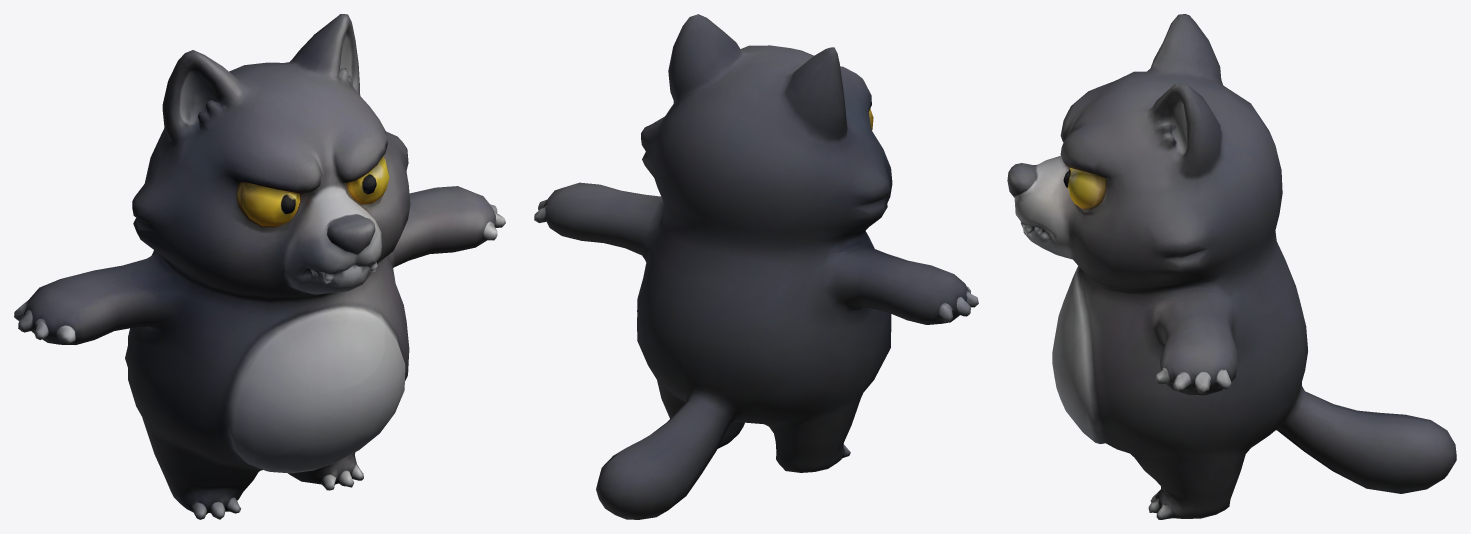
File: wolf.glb
3 views of the same model, side by side, from view 1: azimuth 30°, elevation 25°; view 2: azimuth 150°, elevation 25°; view 3: azimuth 270°, elevation 25° (orthographic). The views are drawn at different scales.
Parts seen in each view (by area): view 1: tripo_node_895c7403-d872-4255-b155-488b4fce2e77; view 2: tripo_node_895c7403-d872-4255-b155-488b4fce2e77; view 3: tripo_node_895c7403-d872-4255-b155-488b4fce2e77.
Part boxes in pixels (bbox=[...]): tripo_node_895c7403-d872-4255-b155-488b4fce2e77: bbox=[14, 14, 505, 519]; tripo_node_895c7403-d872-4255-b155-488b4fce2e77: bbox=[534, 14, 978, 519]; tripo_node_895c7403-d872-4255-b155-488b4fce2e77: bbox=[1007, 14, 1456, 519].
Size of the model in its own units: 0.9771 by 0.8968 by 0.8395.
Materials: 1 (1 with a texture image).
